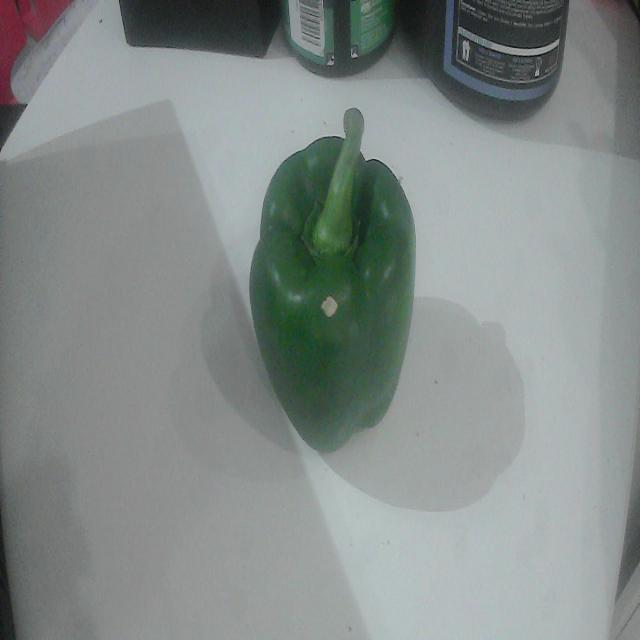Bell Pepper: (250, 109, 415, 452)
